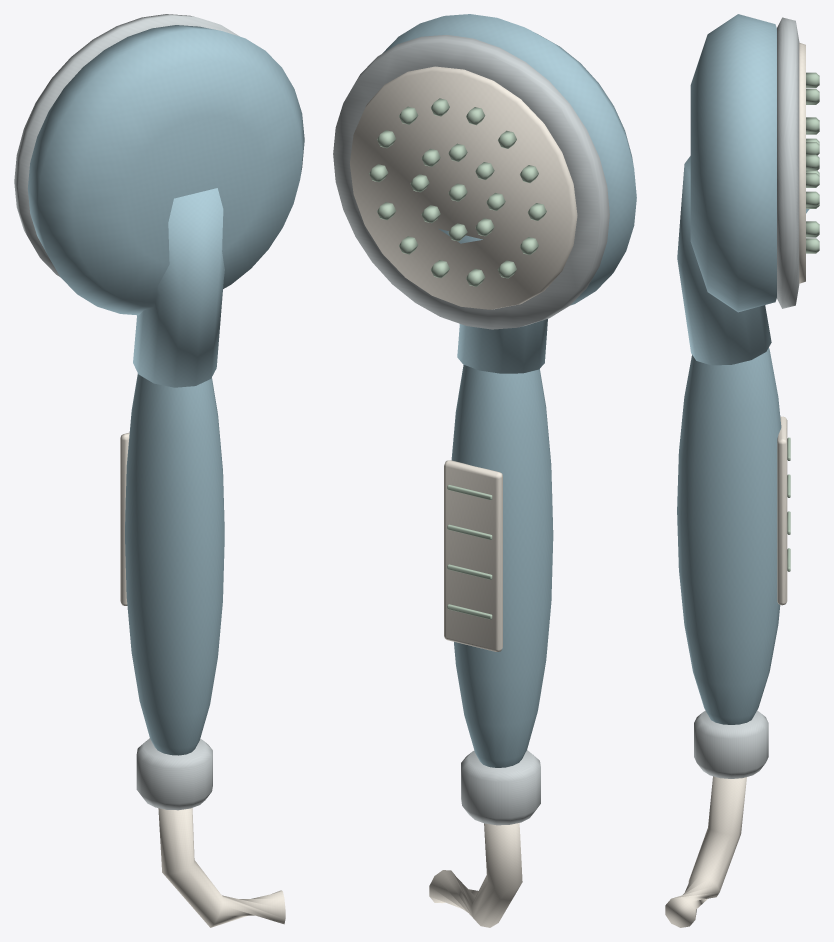
Rendered from test_b_shower.glb.
The picture shows the model from 3 angles, left to right: view 1: azimuth 30°, elevation 25°; view 2: azimuth 150°, elevation 25°; view 3: azimuth 270°, elevation 25°; orthographic projection. The views are drawn at different scales.
Parts seen in each view (by area): view 1: Body; view 2: Body; view 3: Body.
Boxes of the visible parts, x1,y1,x2,y2 form: Body: [14, 14, 304, 927]; Body: [333, 14, 636, 927]; Body: [665, 14, 819, 927].
Bounding box in the file's own units: 0.0786 × 0.25 × 0.0406.
4 materials, 4 textured.
